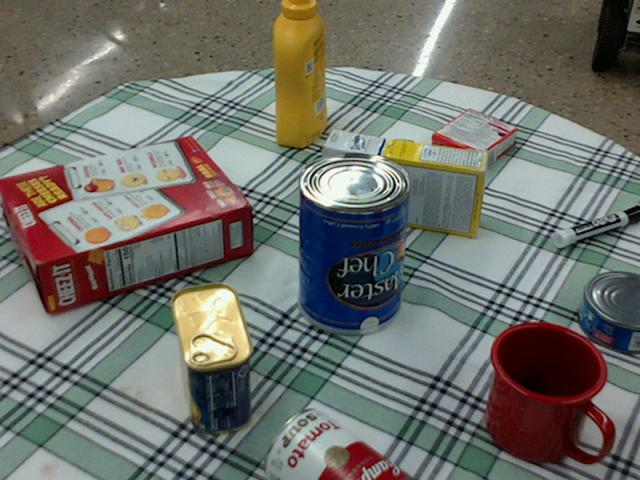cracker_box: (0, 137, 248, 312)
gelatin_box: (430, 109, 516, 172)
large_marker: (553, 206, 639, 246)
master_chef_can: (298, 151, 412, 333)
mug: (484, 322, 612, 462)
mustard_bottle: (273, 0, 325, 146)
potted_meat_can: (170, 282, 253, 433)
sugar_box: (321, 130, 489, 237)
tomato_soup_can: (264, 409, 411, 479)
tuna_fish_can: (578, 272, 639, 353)
